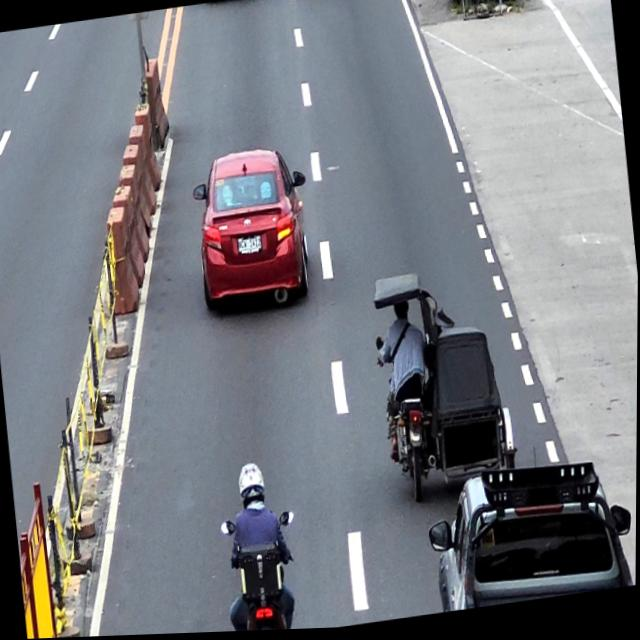Car: (423, 456, 637, 617), (189, 145, 318, 317)
License-Plate: (236, 237, 262, 256)
Motorcycle: (221, 509, 307, 633)
Tricycle: (369, 264, 521, 507)
